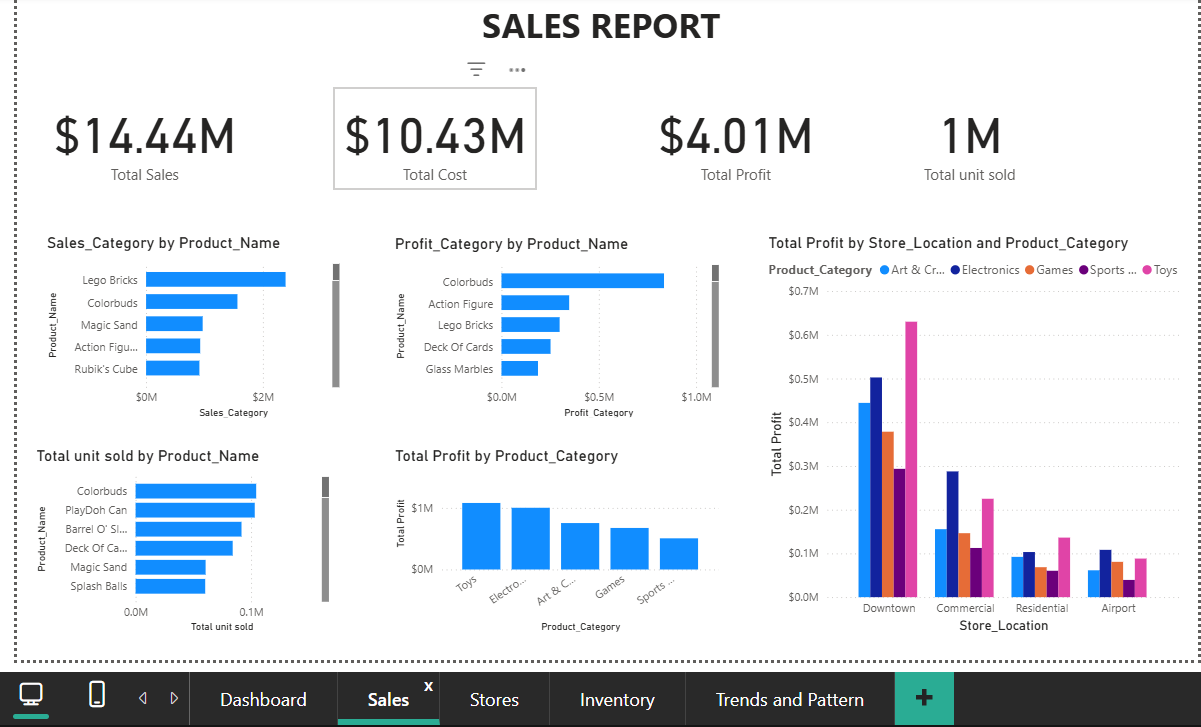

This screenshot's page, from the dashboard's own definition file:
{"tool":"powerbi","page":{"name":"Sales","canvas":[1280,720],"ordinal":1},"visuals":[{"type":"textbox","box":[499.3,0,279.8,60.2],"z":0},{"type":"card","fields":{"Values":["Sales.Total Sales"]},"box":[27.7,99.2,221.2,110.6],"z":1000},{"type":"card","fields":{"Values":["Sales.Total Cost"]},"box":[343.2,99.2,219.6,110.6],"z":2000},{"type":"card","fields":{"Values":["Sales.Profit"]},"box":[668.5,79.7,221.2,149.6],"z":3000},{"type":"card","fields":{"Values":["Sales.Total unit sold"]},"box":[928.8,99.2,208.2,110.6],"z":4000},{"type":"barChart","fields":{"Category":["Products.Product_Name"],"Y":["Products.Sales by Category"]},"box":[27.7,257,326.9,204.9],"z":5000},{"type":"barChart","fields":{"Y":["Products.Profit_Category"],"Category":["Products.Product_Name"]},"box":[405,258.6,361.1,203.3],"z":6000},{"type":"barChart","fields":{"Category":["Products.Product_Name"],"Y":["Sales.Total unit sold"]},"box":[16.3,488,326.9,206.6],"z":7000},{"type":"columnChart","fields":{"Category":["Products.Product_Category"],"Y":["Sales.Profit"]},"box":[405,488,361.1,206.6],"z":8000},{"type":"clusteredColumnChart","fields":{"Category":["Stores.Store_Location"],"Y":["Sales.Profit"],"Series":["Products.Product_Category"]},"box":[810,257,455.4,437.5],"z":9000}]}

Visuals, with their boxes on the page's 1280x720 design canvas (x1, y1, x2, y2). These are canvas units, not pixel positions in the 1201x727 screenshot, which may show the page scaled, cropped or inside an application window:
textbox: 499:0:779:60
card - Sales.Total Sales: 28:99:249:210
card - Sales.Total Cost: 343:99:563:210
card - Sales.Profit: 668:80:890:229
card - Sales.Total unit sold: 929:99:1137:210
barChart - Products.Product_Name x Products.Sales by Category: 28:257:355:462
barChart - Products.Profit_Category x Products.Product_Name: 405:259:766:462
barChart - Products.Product_Name x Sales.Total unit sold: 16:488:343:695
columnChart - Products.Product_Category x Sales.Profit: 405:488:766:695
clusteredColumnChart - Stores.Store_Location x Sales.Profit: 810:257:1265:694
